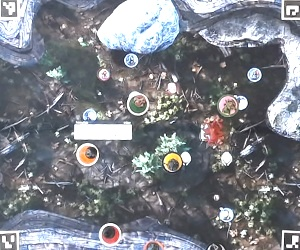giant_red_octopus: (199, 119, 222, 142)
green: (126, 92, 149, 115)
light_blue_orange: (138, 238, 168, 249)
orange: (75, 142, 98, 165)
pink_green: (216, 94, 239, 117)
red: (98, 220, 122, 245)
yellow_night_blue: (160, 151, 183, 174)
